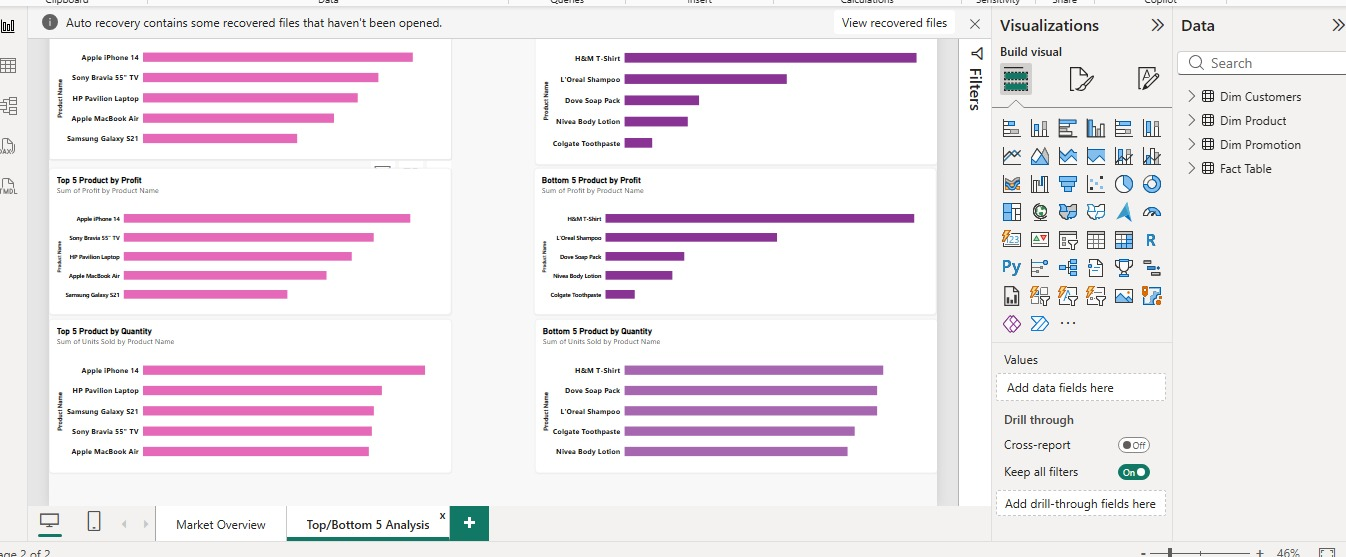

The page's visual inventory and layout, read from the dashboard file:
{"tool":"powerbi","page":{"name":"Top/Bottom 5 Analysis","canvas":[1920,1080],"ordinal":1},"visuals":[{"type":"barChart","title":"Top 5 Product by sales","fields":{"Category":["Dim Product.Product Name"],"Y":["Sum(Fact Table.Net Sales.1)"]},"box":[0,0,870.5,332.6],"z":0},{"type":"barChart","title":"Top 5 Product by Profit","fields":{"Category":["Dim Product.Product Name"],"Y":["Sum(Fact Table.Profit)"]},"box":[0,350.2,869.3,317.5],"z":1000},{"type":"barChart","title":"Bottom 5 Product by sales","fields":{"Category":["Dim Product.Product Name"],"Y":["Sum(Fact Table.Net Sales.1)"]},"box":[1049.8,0,870.5,343.4],"z":2000},{"type":"barChart","title":"Top 5 Product by Quantity","fields":{"Category":["Dim Product.Product Name"],"Y":["Sum(Fact Table.Units Sold)"]},"box":[0,675.3,870.5,332.6],"z":3000},{"type":"barChart","title":"Bottom 5 Product by Quantity","fields":{"Category":["Dim Product.Product Name"],"Y":["Sum(Fact Table.Units Sold)"]},"box":[1050.7,675.3,870.5,332.6],"z":4000},{"type":"barChart","title":"Bottom 5 Product by Profit","fields":{"Category":["Dim Product.Product Name"],"Y":["Sum(Fact Table.Profit)"]},"box":[1048.2,350.2,869.3,317.5],"z":5000}]}

Visuals, with their boxes on the page's 1920x1080 design canvas (x1, y1, x2, y2). These are canvas units, not pixel positions in the 1346x557 screenshot, which may show the page scaled, cropped or inside an application window:
"Top 5 Product by sales" barChart: <bbox>0, 0, 870, 333</bbox>
"Top 5 Product by Profit" barChart: <bbox>0, 350, 869, 668</bbox>
"Bottom 5 Product by sales" barChart: <bbox>1050, 0, 1920, 343</bbox>
"Top 5 Product by Quantity" barChart: <bbox>0, 675, 870, 1008</bbox>
"Bottom 5 Product by Quantity" barChart: <bbox>1051, 675, 1921, 1008</bbox>
"Bottom 5 Product by Profit" barChart: <bbox>1048, 350, 1918, 668</bbox>
